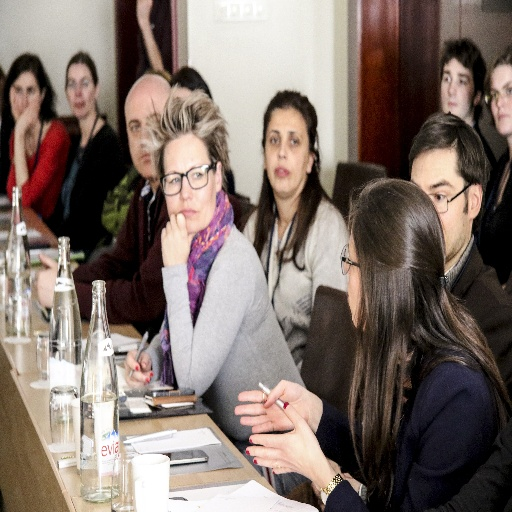hand: (244, 400, 329, 479), (233, 377, 312, 435), (160, 210, 195, 266), (319, 470, 362, 511), (311, 456, 346, 502), (32, 251, 58, 307), (122, 348, 153, 388), (12, 93, 41, 133), (134, 0, 153, 21)
